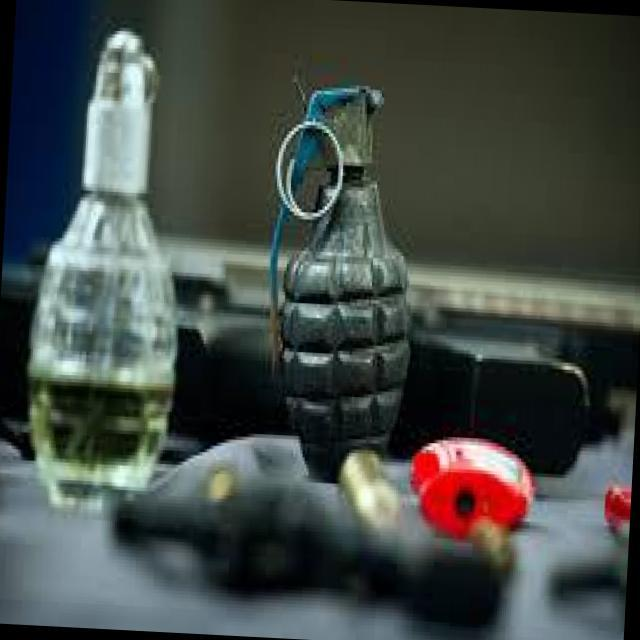grenade: (256, 76, 424, 461)
